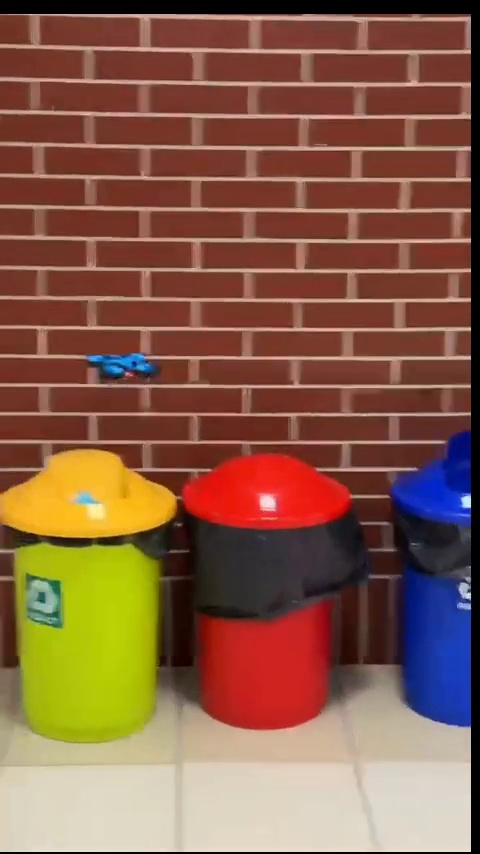drone: (90, 350, 159, 386)
